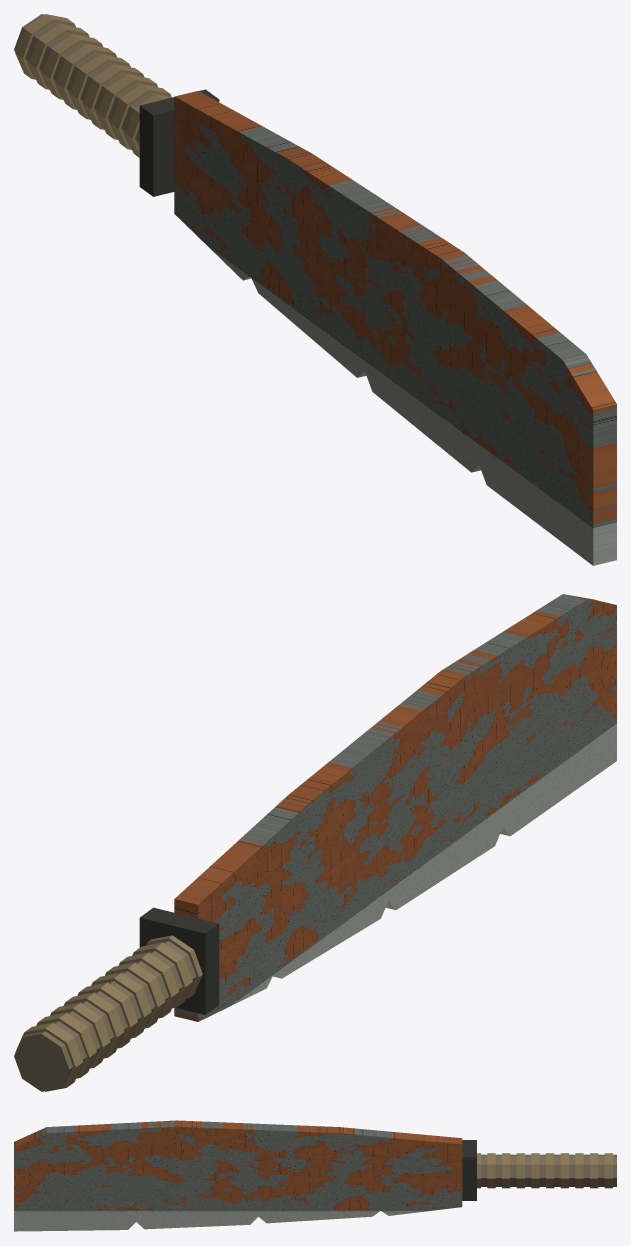
File: cleaver_rust.glb
The picture shows the model from 3 angles, top to bottom: view 1: azimuth 30°, elevation 25°; view 2: azimuth 150°, elevation 25°; view 3: azimuth 270°, elevation 25°; orthographic projection. The views are drawn at different scales.
Bounding box in the file's own units: 0.05 × 0.142 × 0.74.
Materials: 3 (3 with a texture image).
